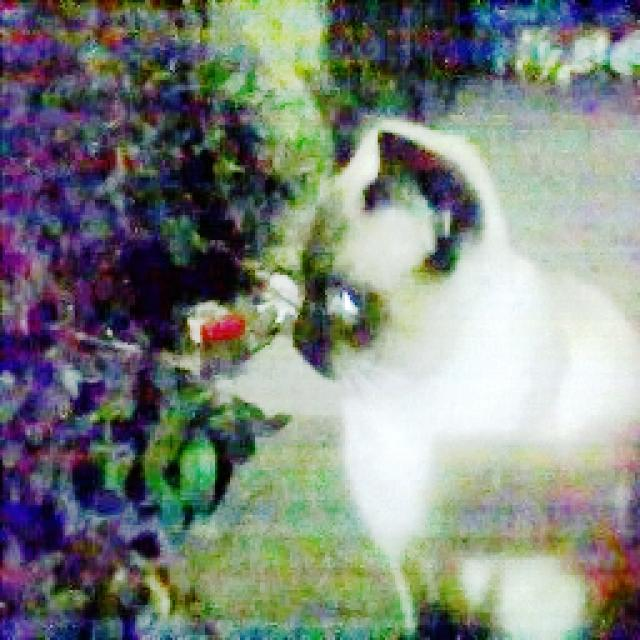cat: (292, 94, 640, 640)
